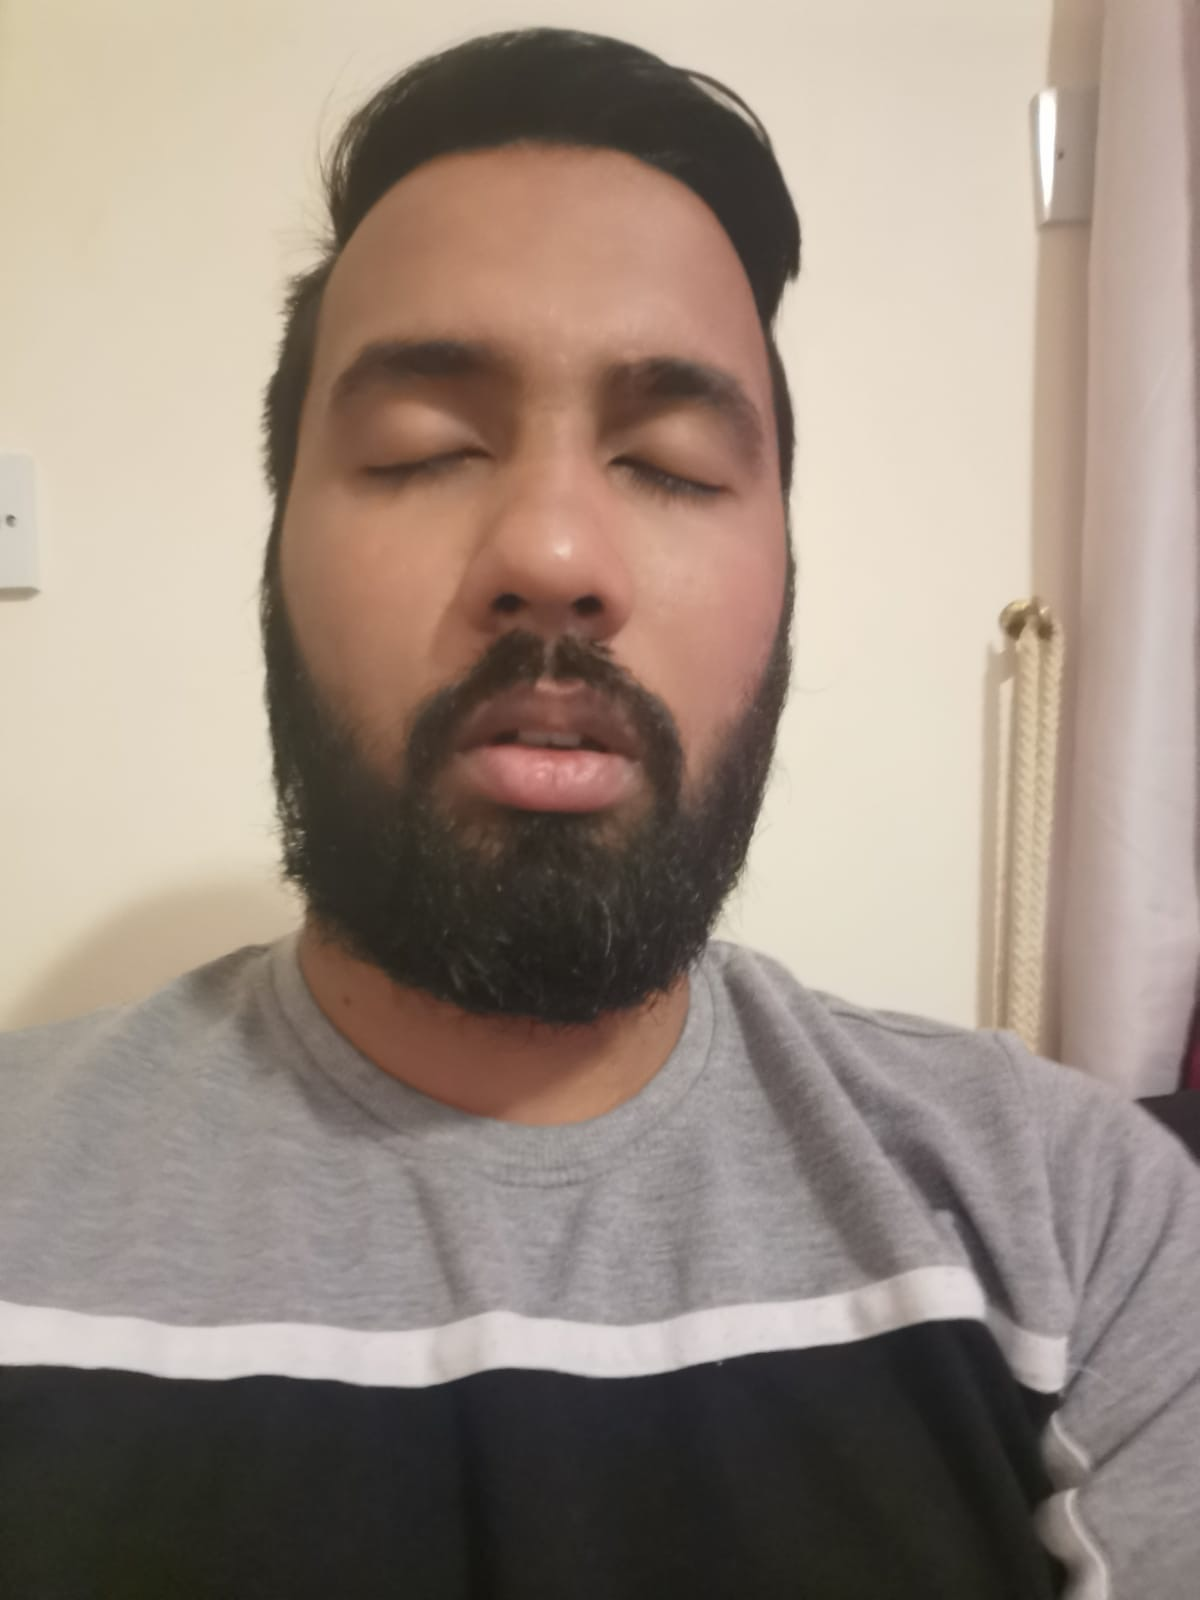Sleeping: (320, 392, 755, 525)
